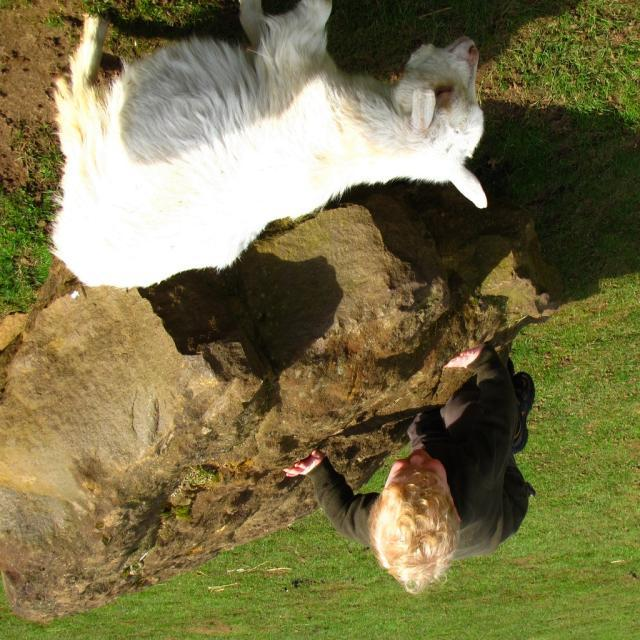Goat: (47, 1, 488, 292)
